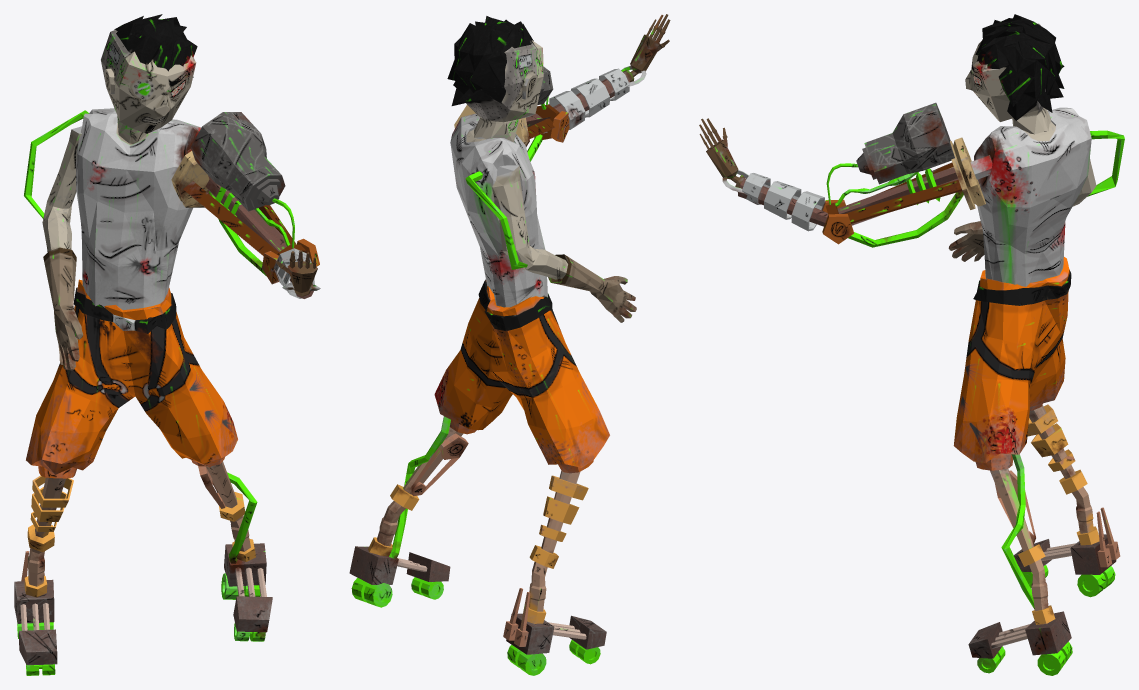
The model's file is CyborgFINALAnimation_000018.obj.
The picture shows the model from 3 angles, left to right: view 1: azimuth 30°, elevation 25°; view 2: azimuth 150°, elevation 25°; view 3: azimuth 270°, elevation 25°; orthographic projection. The views are drawn at different scales.
Visible parts, largest first — view 1: CyborgMesh_Cube.002; view 2: CyborgMesh_Cube.002; view 3: CyborgMesh_Cube.002.
Part boxes in pixels (<box>): CyborgMesh_Cube.002: <box>14,14,320,675</box>; CyborgMesh_Cube.002: <box>349,14,670,675</box>; CyborgMesh_Cube.002: <box>699,14,1124,675</box>.
Bounding box in the file's own units: 3.95 × 9.53 × 6.03.
